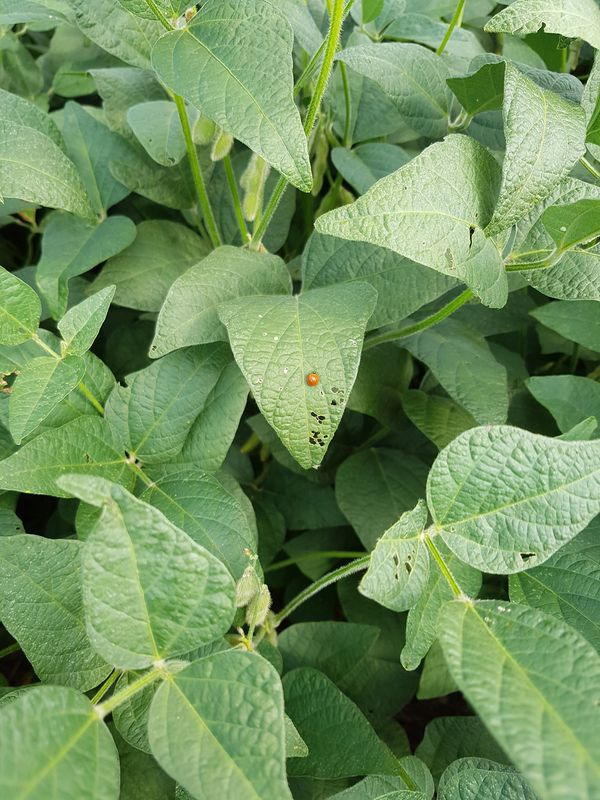Coccinellidae: (298, 365, 325, 391)
